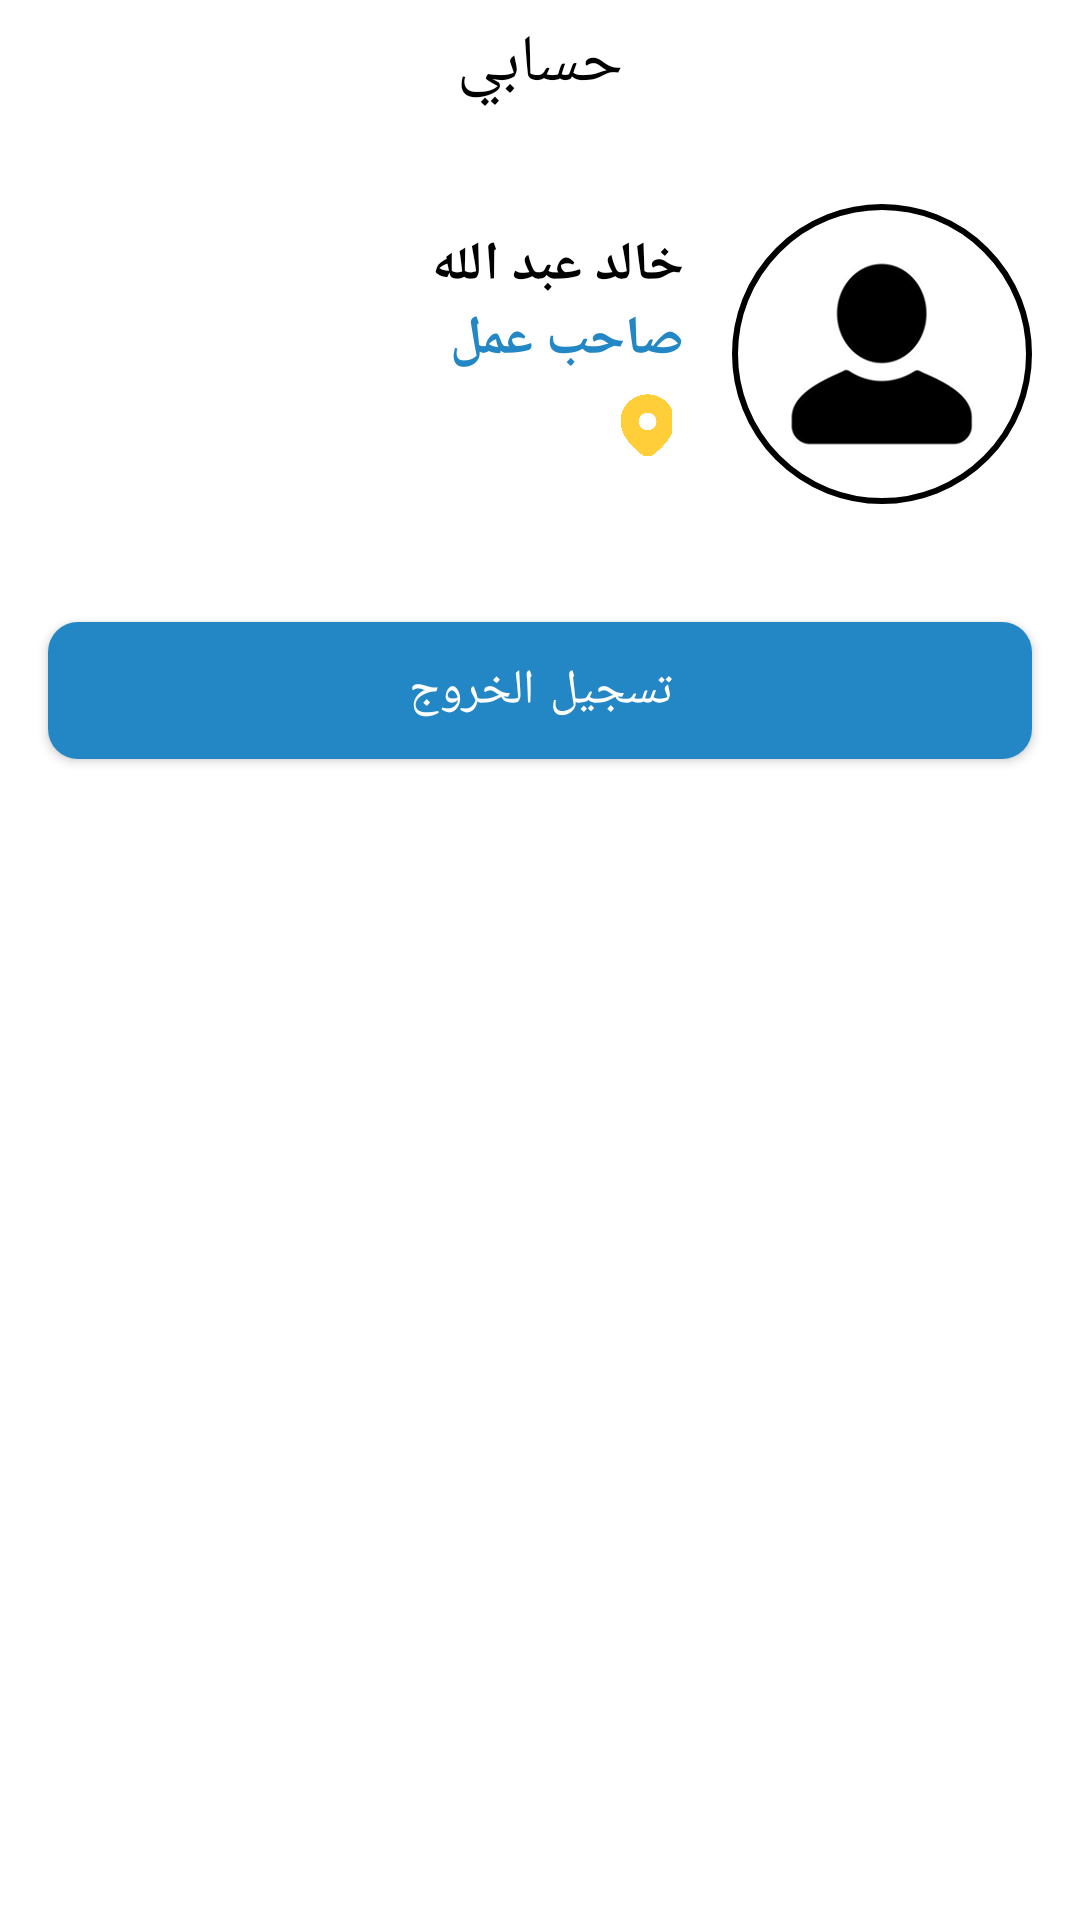

Icons on this 1080 x 1920 Android screen, each with the point to tap as [x,y]:
location: [646,425]
